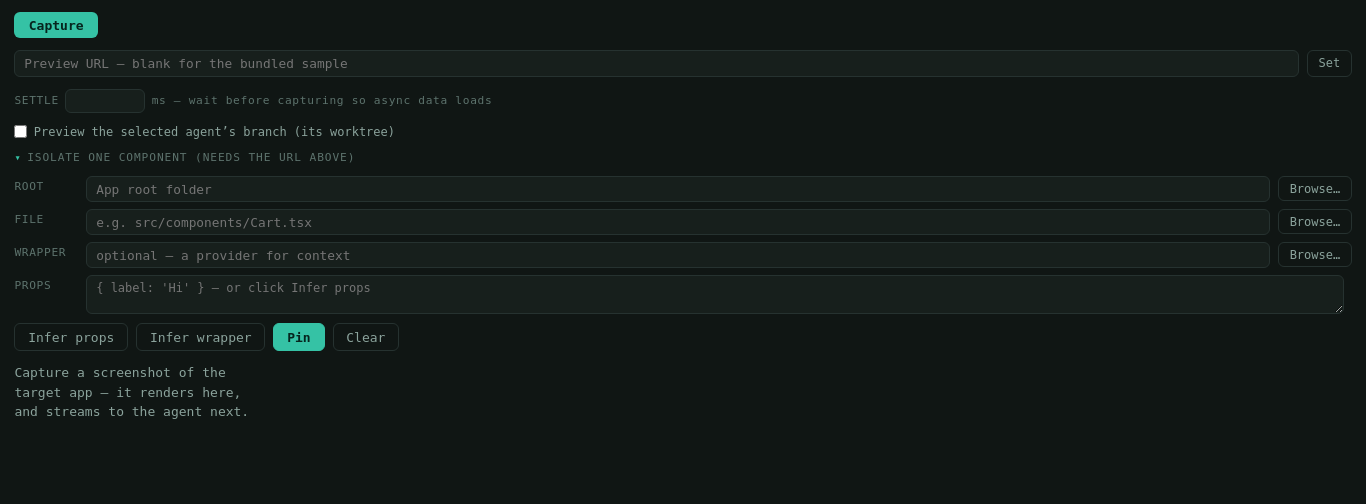
Test: Preview › eagerly starts the worktree dev server and reports it ready
Click the checkbox named "Preview the selected agent's branch". click: (21, 132)
box: x1=14 y1=125 x2=27 y2=138
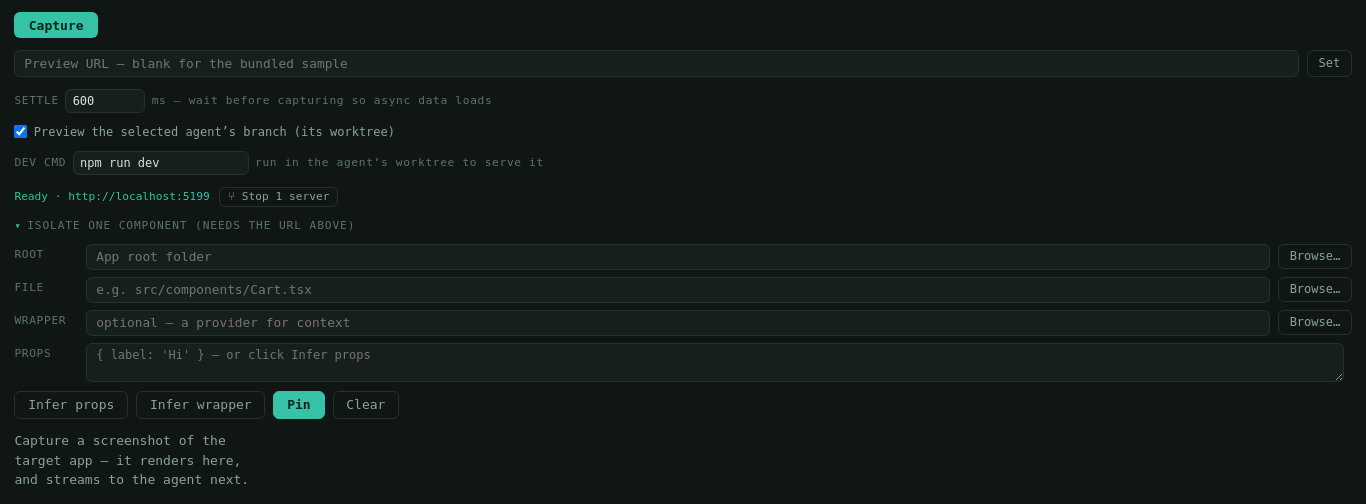
Now the text "Ready · http://localhost:5199" is shown, box x1=14 y1=190 x2=210 y2=203
Now the button with aria-label "Stop all preview servers" shows "Stop 1 server", box x1=219 y1=187 x2=338 y2=207
